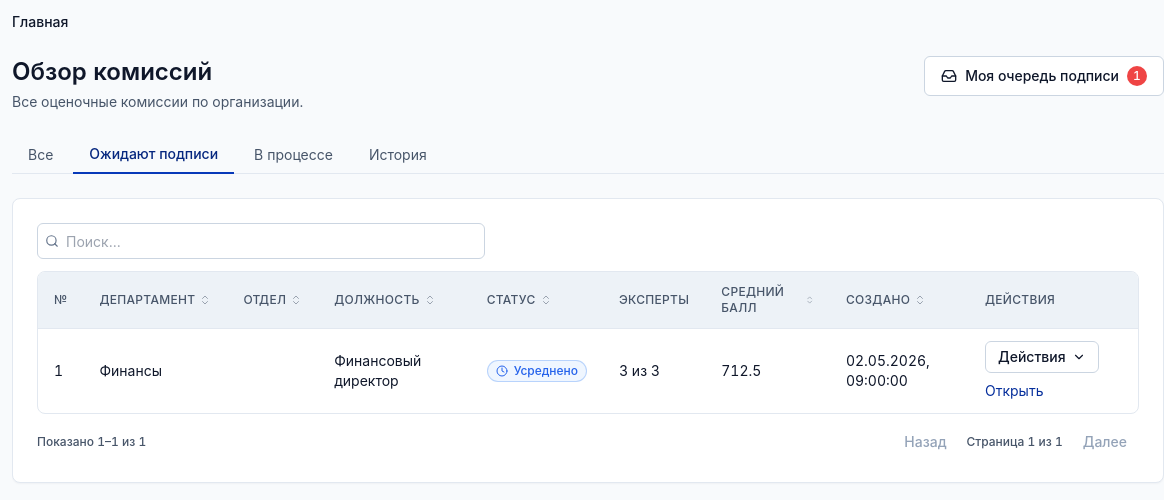
it: <CeoPanelsPage /> inline sign-off (dropdown UX) › opening the dropdown exposes approve / request-changes / reject menu items
The width and height of the screenshot is (1164, 500).
Click the button with test id "ceo-actions-menu-trigger": point(1042, 357) 985,341 -> 1099,373
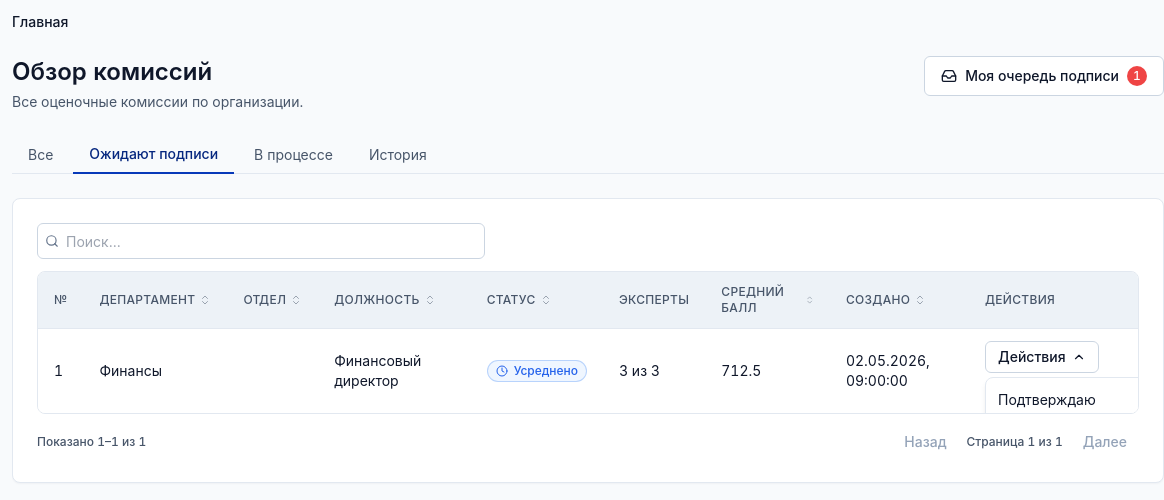
Result: the menu item with test id "ceo-inline-approve" is shown at 986,382 -> 1139,414
